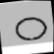no answer: (12, 14, 49, 44)
